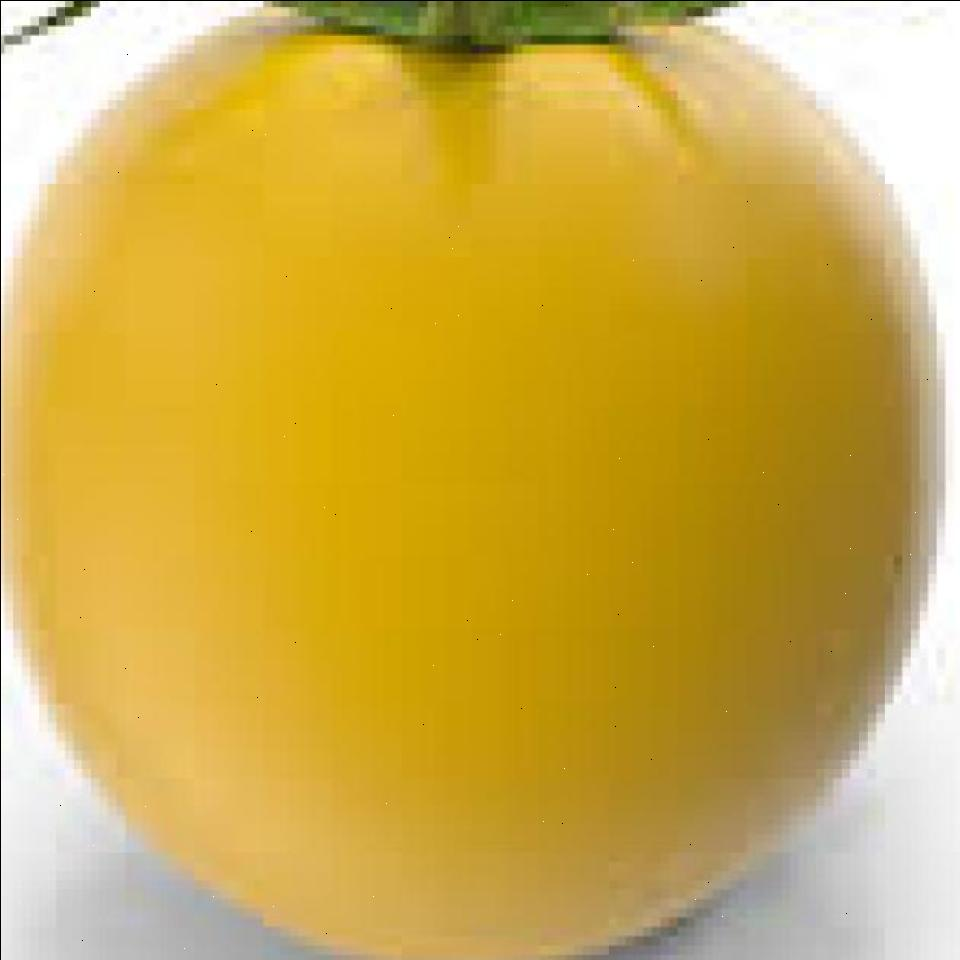Healthy: (12, 17, 960, 960)
